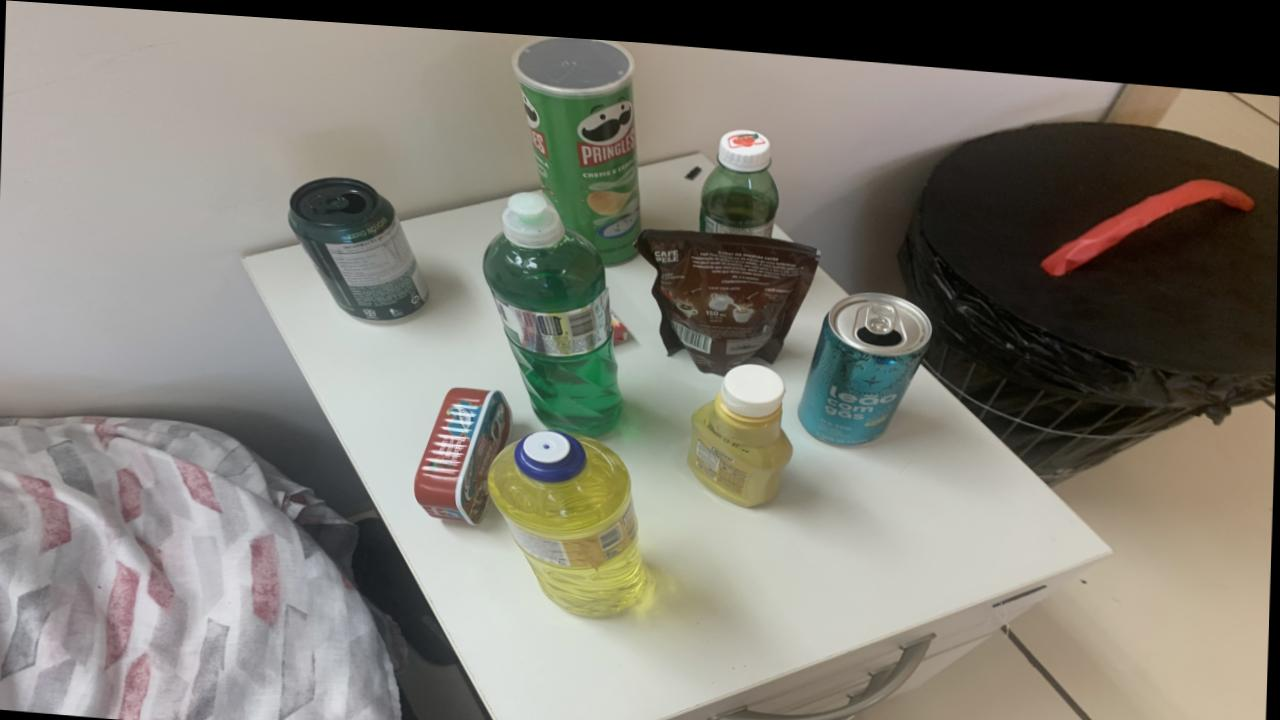Coffee-Pantry_Items: (640, 220, 818, 364)
Detergent-Cleanup_Items: (484, 185, 623, 426), (488, 421, 646, 608)
Guarana-Drinks: (701, 119, 780, 226)
Guarana_Can-Drinks: (288, 172, 429, 316)
Mustard-Pantry_Items: (689, 353, 795, 496)
Pringles-Snacks: (513, 29, 641, 257)
Tea-Drinks: (798, 280, 934, 435)
Tuna_Can-Pantry_Items: (415, 381, 513, 518)
